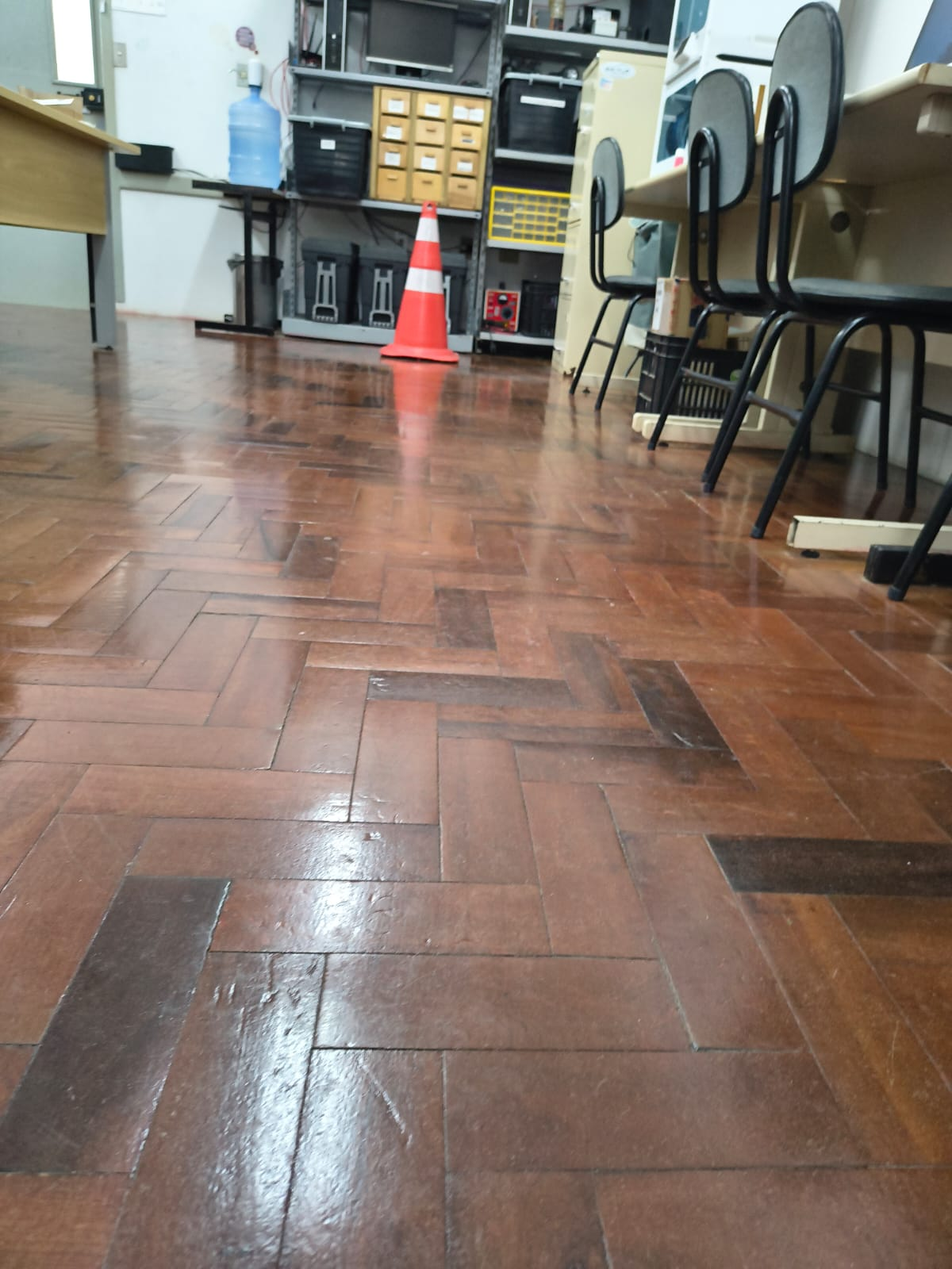cone: (389, 199, 457, 373)
